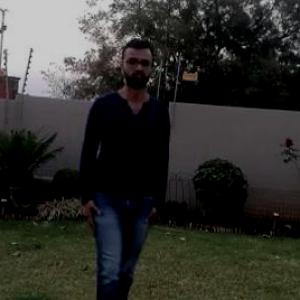follow: (82, 39, 177, 299)
